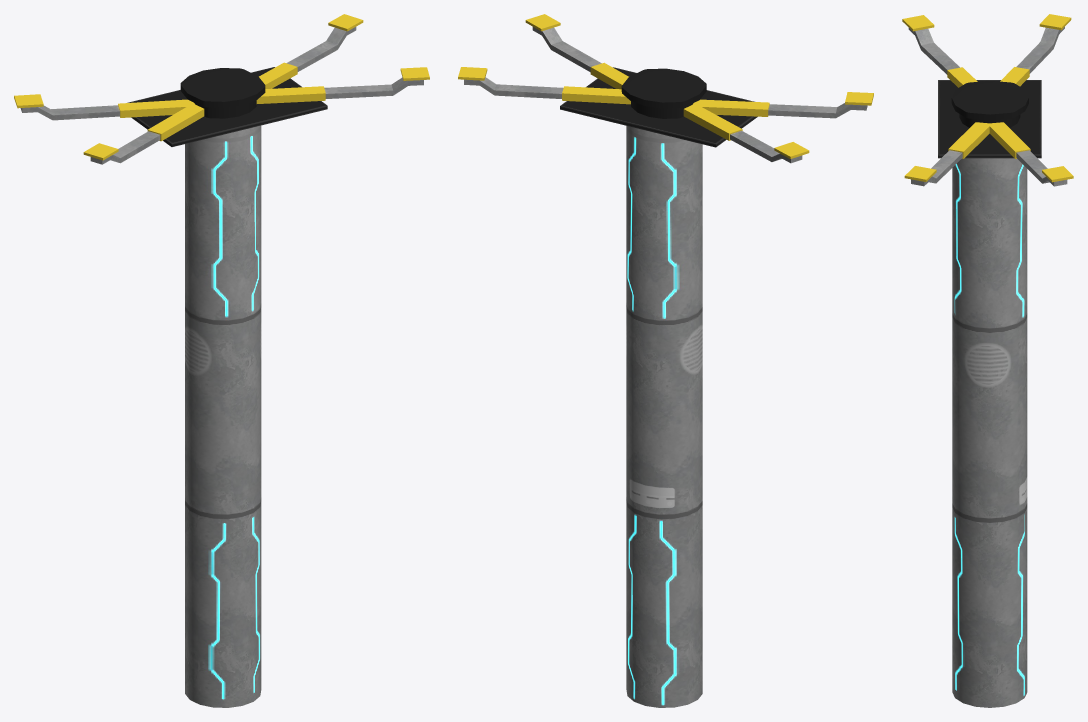
The model's file is Brazo_Soporte_Vehiculo.fbx.
3 views of the same model, side by side, from view 1: azimuth 30°, elevation 25°; view 2: azimuth 150°, elevation 25°; view 3: azimuth 270°, elevation 25° (orthographic). The views are drawn at different scales.
Parts seen in each view (by area): view 1: BrazoBase, Ala1, Ala3, Ala2, Ala4; view 2: BrazoBase, Ala2, Ala4, Ala1, Ala3; view 3: BrazoBase, Ala3, Ala4, Ala2, Ala1.
Boxes of the visible parts, x1,y1,x2,y2 form: BrazoBase: (127, 67, 327, 707); Ala1: (14, 94, 197, 120); Ala3: (256, 67, 429, 103); Ala2: (83, 106, 204, 164); Ala4: (259, 14, 363, 88); BrazoBase: (560, 67, 757, 707); Ala2: (694, 92, 873, 118); Ala4: (458, 67, 630, 104); Ala1: (683, 103, 809, 163); Ala3: (525, 14, 628, 89); BrazoBase: (938, 80, 1041, 707); Ala3: (904, 122, 992, 186); Ala4: (989, 122, 1073, 186); Ala2: (902, 15, 977, 87); Ala1: (1000, 14, 1071, 86).
Bounding box in the file's own units: 165 × 276 × 71.94.
